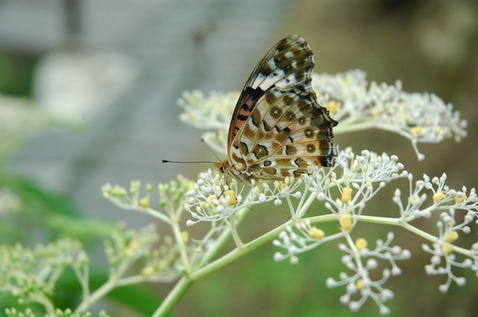Argyreus hyperbius: (158, 30, 340, 197)
butterfly: (160, 32, 342, 199)
